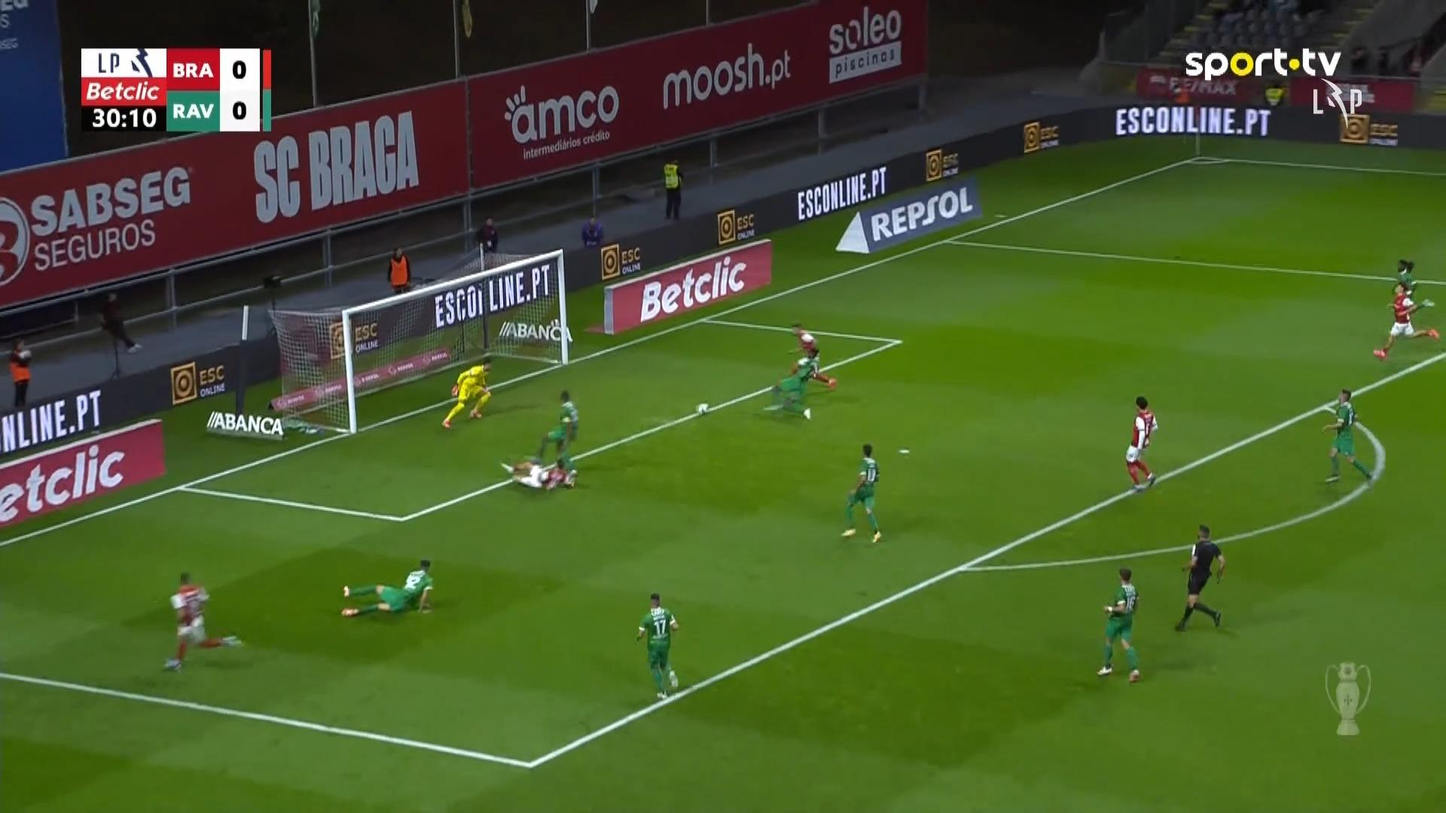ball: (697, 403, 709, 414)
goalkeeper: (441, 358, 493, 428)
player: (162, 570, 244, 672), (340, 558, 434, 618), (1372, 281, 1438, 359), (1320, 387, 1373, 483), (1097, 567, 1140, 681), (635, 592, 679, 701), (840, 443, 882, 543), (535, 388, 579, 466), (788, 322, 837, 390), (1124, 395, 1158, 492), (764, 355, 815, 419), (500, 455, 577, 490), (1393, 259, 1418, 303)
referee: (1173, 523, 1225, 632)
